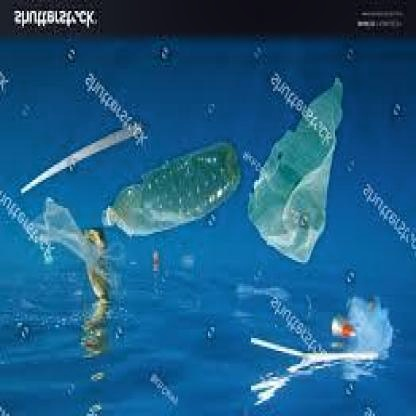pbag: (248, 69, 344, 269), (19, 188, 129, 308), (335, 288, 400, 353)
pbottle: (98, 141, 242, 236)
